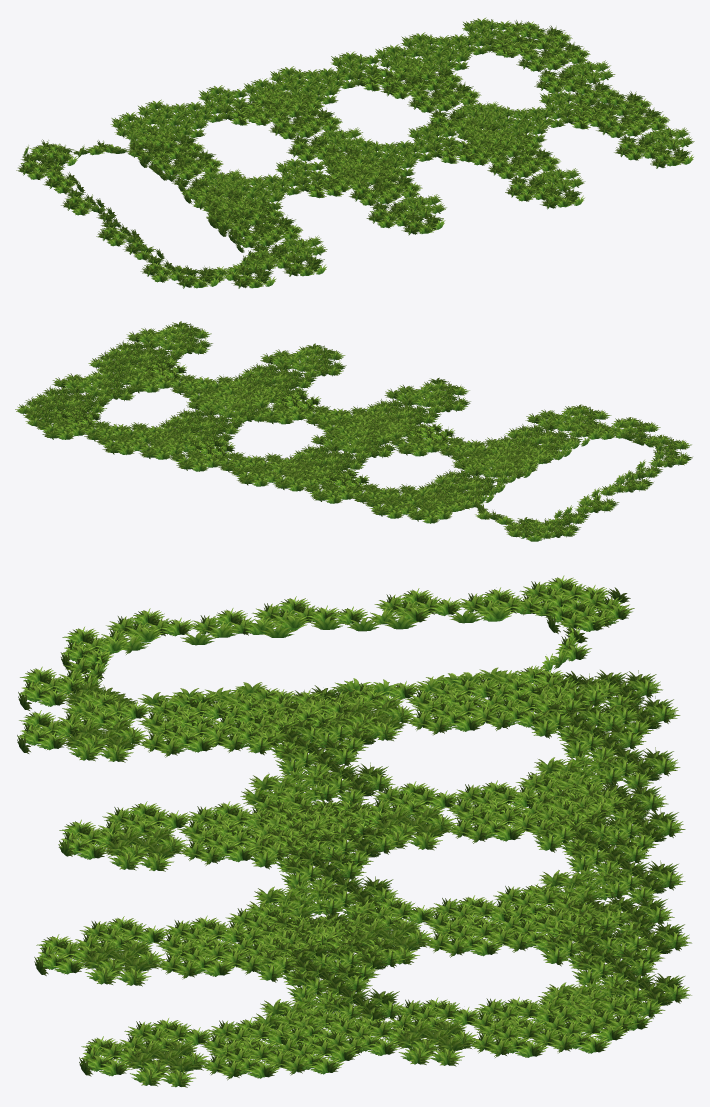
Rendered from pastito_huerta.glb.
The picture shows the model from 3 angles, top to bottom: view 1: azimuth 30°, elevation 25°; view 2: azimuth 150°, elevation 25°; view 3: azimuth 270°, elevation 25°; orthographic projection. The views are drawn at different scales.
Parts seen in each view (by area): view 1: pasto huerta 1, pasto huerta 2; view 2: pasto huerta 1, pasto huerta 2; view 3: pasto huerta 1, pasto huerta 2.
Part boxes in pixels (<box>): pasto huerta 1: <box>16,17,693,288</box>; pasto huerta 2: <box>18,19,694,288</box>; pasto huerta 1: <box>15,321,692,541</box>; pasto huerta 2: <box>18,322,689,541</box>; pasto huerta 1: <box>17,575,691,1087</box>; pasto huerta 2: <box>17,577,688,1087</box>.
Size of the model in its own units: 21.1 by 1.37 by 12.66.
Materials: 1 (1 with a texture image).
